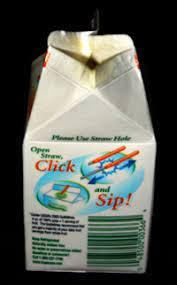cardboard: (23, 13, 175, 283)
